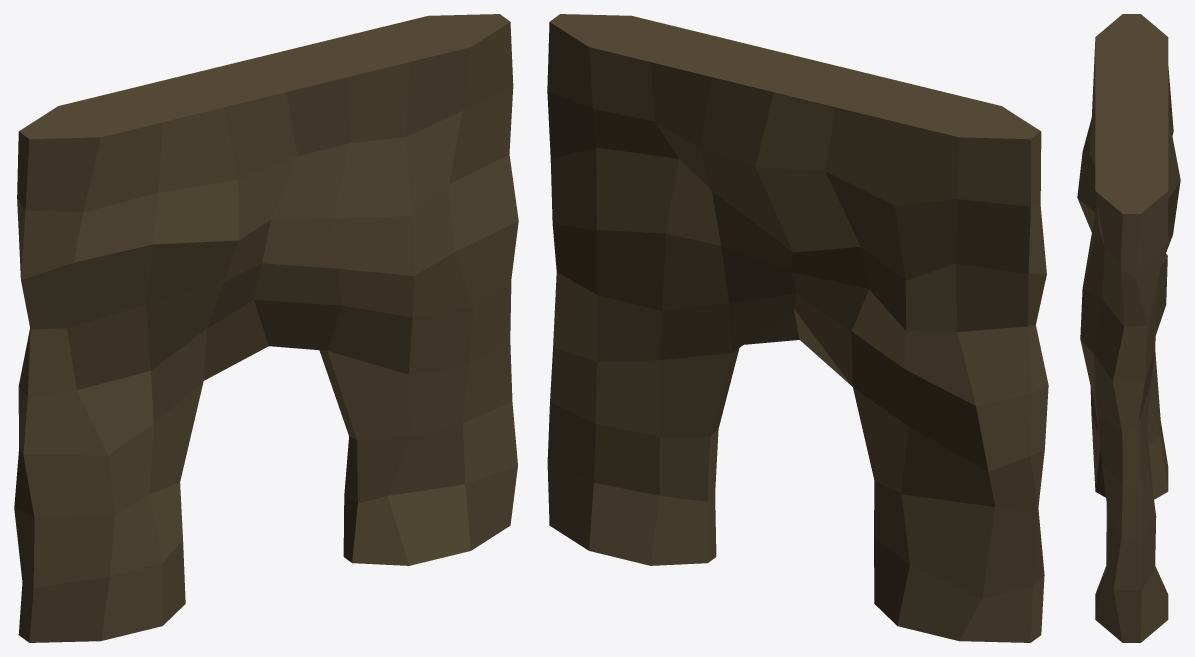
Rendered from BigOpening.M.fbx.
3 renders of one model, left to right at view 1: azimuth 30°, elevation 25°; view 2: azimuth 150°, elevation 25°; view 3: azimuth 270°, elevation 25°, orthographic. The views are drawn at different scales.
Visible parts, largest first — view 1: Big_Wall Opening.M; view 2: Big_Wall Opening.M; view 3: Big_Wall Opening.M.
Boxes of the visible parts, x1,y1,x2,y2 form: Big_Wall Opening.M: [14, 14, 518, 642]; Big_Wall Opening.M: [547, 14, 1048, 642]; Big_Wall Opening.M: [1077, 14, 1180, 642].
Bounding box in the file's own units: 1332 × 1300 × 284.
